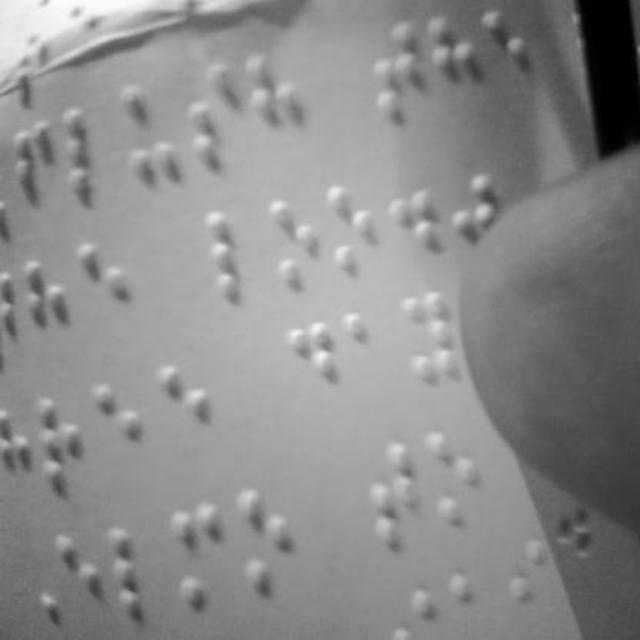braiile: (234, 484, 302, 600), (172, 499, 232, 623), (276, 314, 340, 426), (424, 422, 486, 534), (402, 278, 463, 390), (76, 234, 134, 350), (118, 79, 178, 191), (19, 252, 75, 372), (105, 518, 165, 628), (245, 47, 305, 157), (157, 353, 217, 463), (4, 114, 60, 230), (39, 392, 99, 500), (372, 430, 424, 554), (64, 92, 120, 204), (322, 178, 380, 284), (185, 64, 241, 172), (267, 192, 323, 298), (206, 205, 264, 305), (96, 372, 150, 474), (346, 305, 396, 409), (372, 20, 420, 124), (53, 526, 103, 624)
